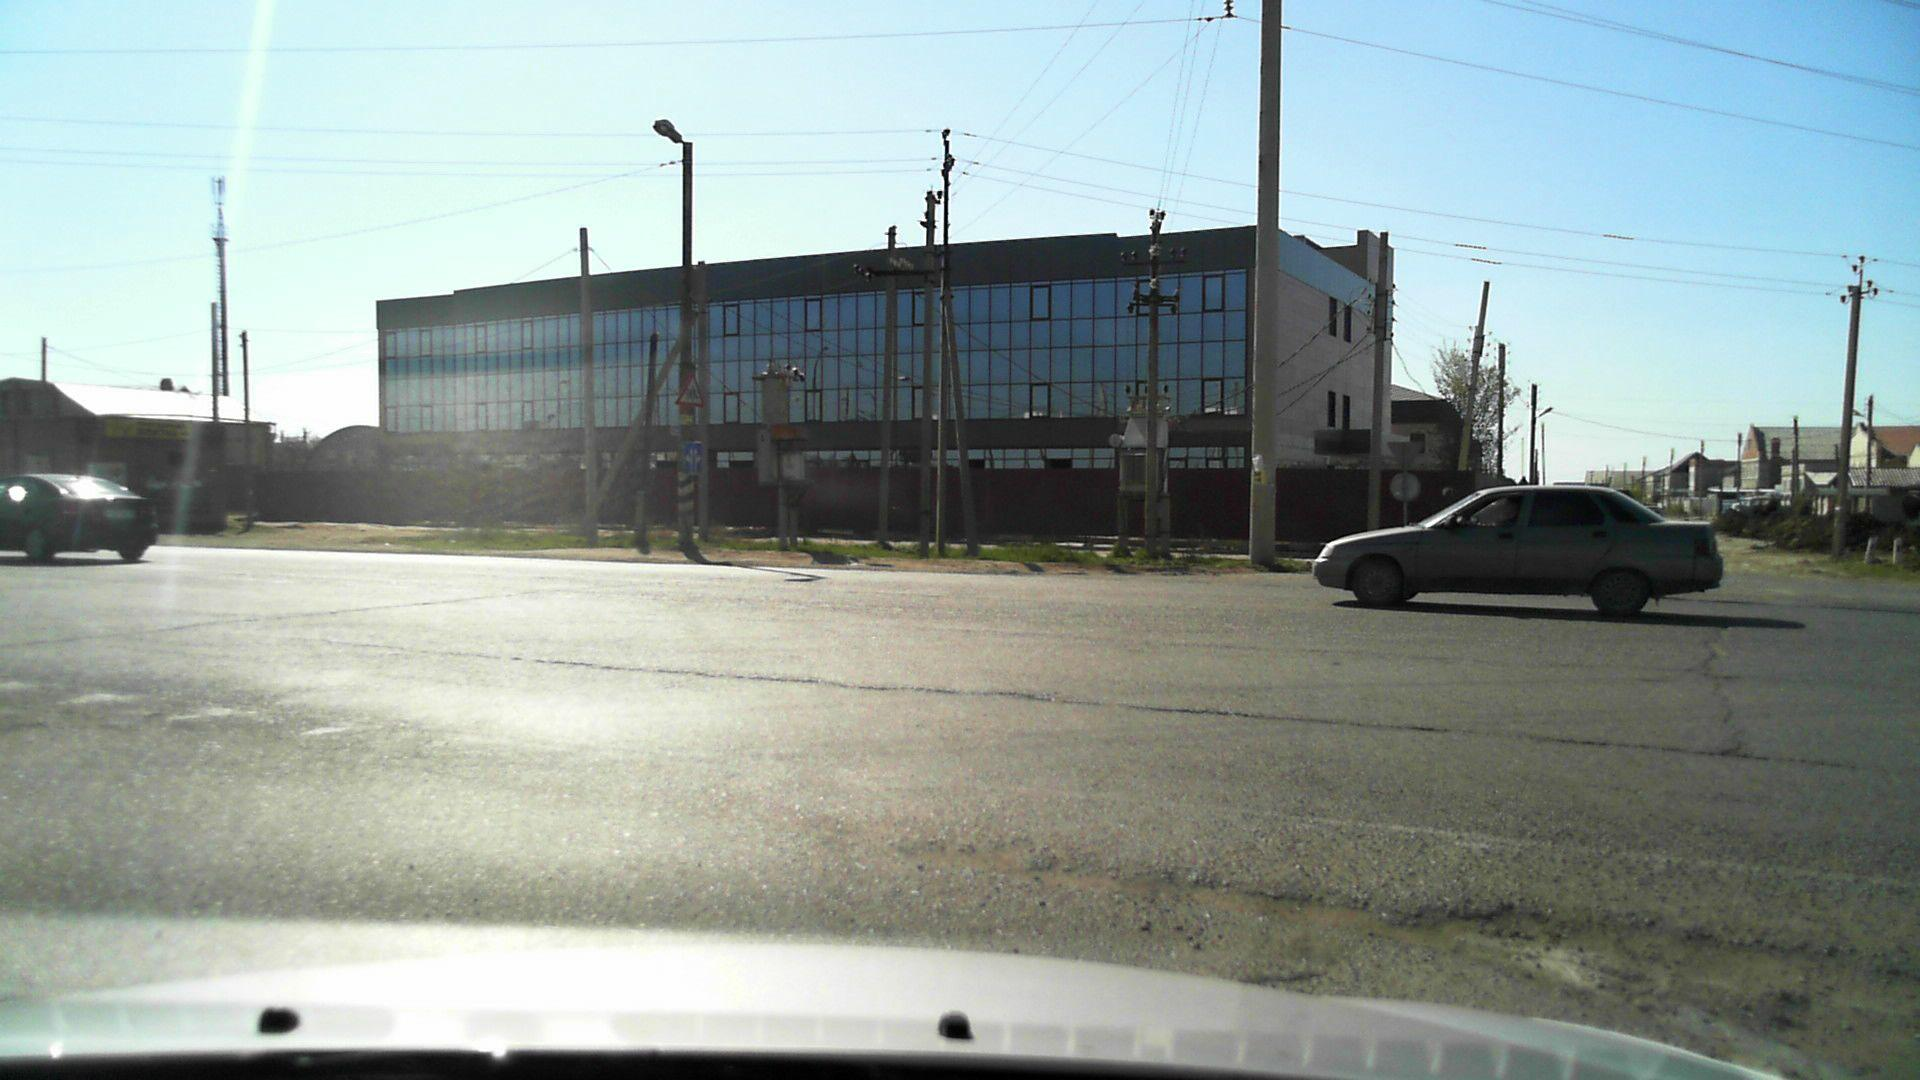1_23: (673, 371, 705, 407)
5_15_1: (676, 440, 705, 475)
